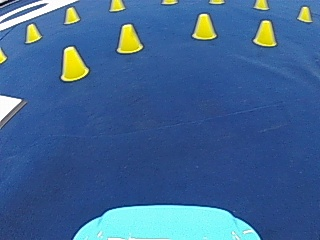cone: (59, 45, 88, 81), (116, 22, 142, 53), (191, 12, 217, 40), (252, 19, 277, 46), (25, 23, 41, 43), (63, 6, 79, 24), (296, 5, 312, 22), (109, 0, 124, 11), (254, 0, 268, 10)
